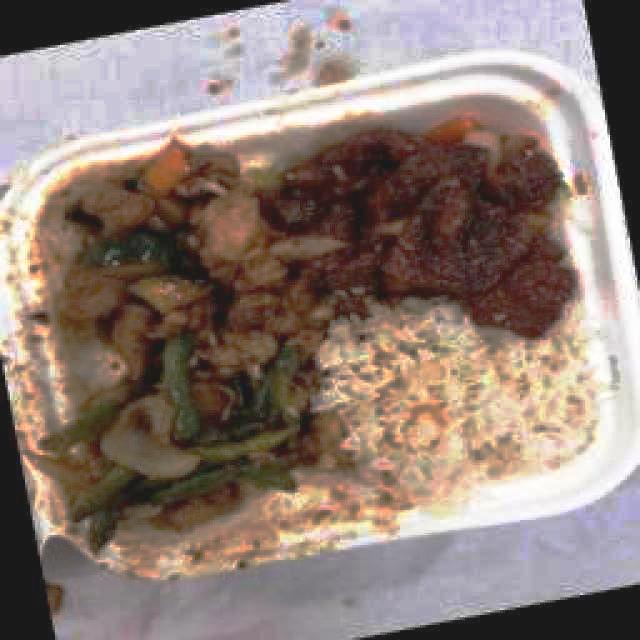Beijing Beef: (66, 124, 555, 316)
rice: (345, 343, 590, 483)
